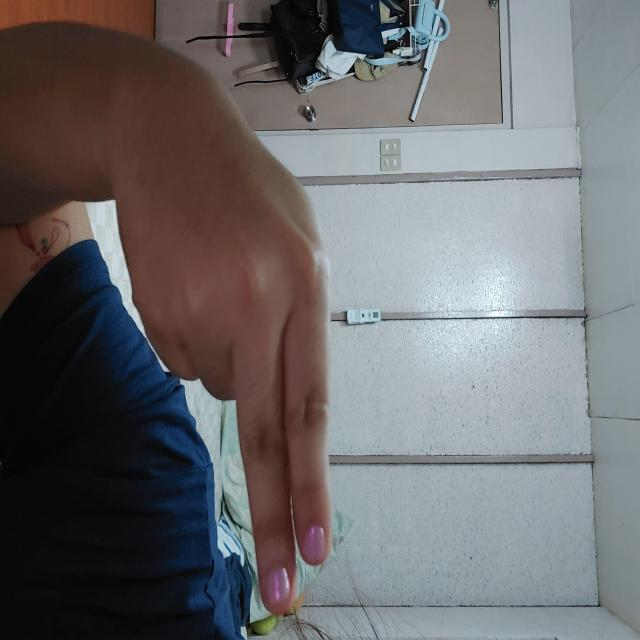H: (67, 308, 616, 525)
